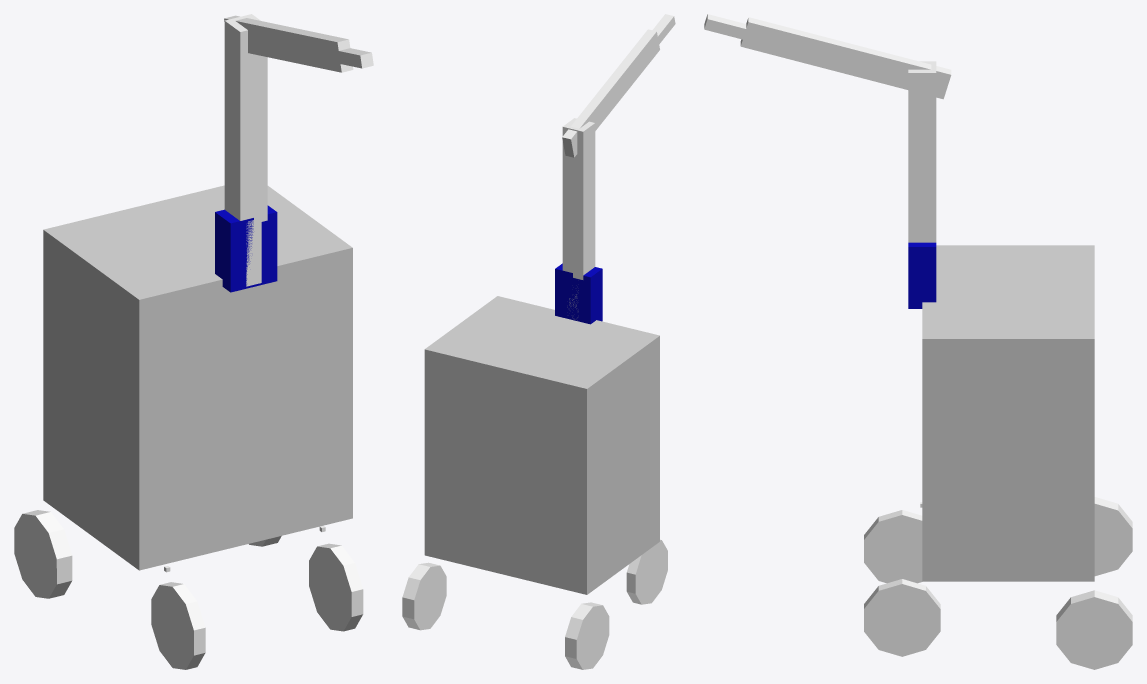
The model's file is base_arm.dae.
3 renders of one model, left to right at view 1: azimuth 30°, elevation 25°; view 2: azimuth 150°, elevation 25°; view 3: azimuth 270°, elevation 25°, orthographic. The views are drawn at different scales.
Visible parts, largest first — view 1: base_link, link1, left_wheel, left_cwheel, right_cwheel, link0, link2, bl, link3, link4; view 2: base_link, link1, left_wheel, right_wheel, link2, link0, left_cwheel, link3; view 3: base_link, link1, right_wheel, right_cwheel, link2, left_cwheel, left_wheel, link0, link3, link4.
Boxes of the visible parts, box(x1,y1,x2,y2) form: base_link: box(43, 185, 352, 570); link1: box(224, 14, 267, 223); left_wheel: box(14, 510, 72, 598); left_cwheel: box(151, 582, 205, 669); right_cwheel: box(309, 543, 363, 631); link0: box(215, 205, 277, 292); link2: box(224, 15, 326, 68); bl: box(246, 220, 261, 286); link3: box(316, 35, 353, 72); link4: box(338, 48, 373, 68); base_link: box(424, 296, 659, 594); link1: box(562, 118, 595, 279); left_wheel: box(565, 602, 609, 669); right_wheel: box(402, 562, 446, 630); link2: box(562, 49, 644, 157); link0: box(555, 263, 602, 324); left_cwheel: box(626, 539, 667, 604); link3: box(632, 29, 659, 68); base_link: box(922, 245, 1094, 581); link1: box(908, 61, 936, 242); right_wheel: box(1056, 590, 1132, 669); right_cwheel: box(864, 579, 940, 656); link2: box(777, 26, 951, 99); left_cwheel: box(864, 510, 922, 583); left_wheel: box(1094, 497, 1132, 576); link0: box(908, 242, 936, 308); link3: box(740, 17, 786, 55); link4: box(704, 14, 746, 39).
Size of the model in its own units: 0.5902 by 1.07 by 1.66.
